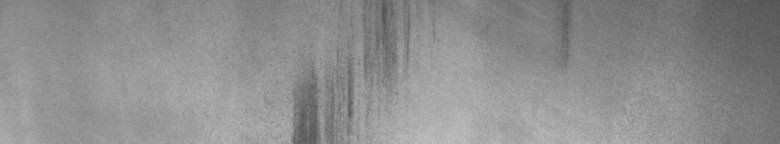ka: (287, 4, 415, 136)
